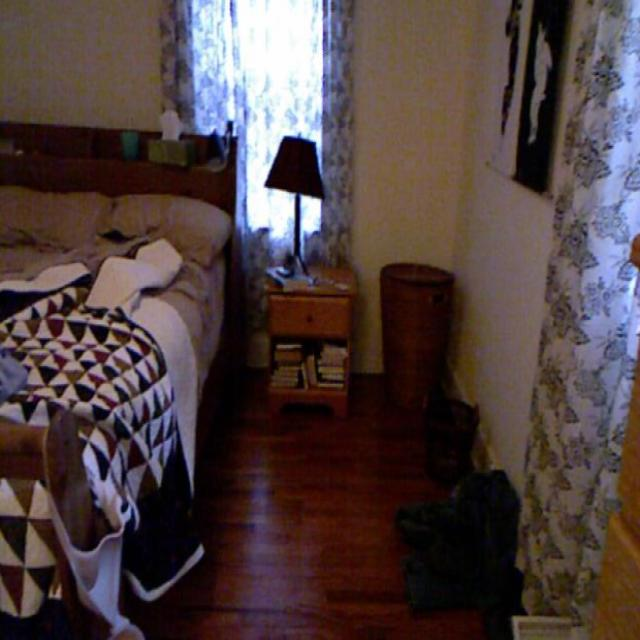bed: (0, 101, 225, 548)
beside table: (253, 268, 357, 435)
window: (199, 5, 330, 245)
